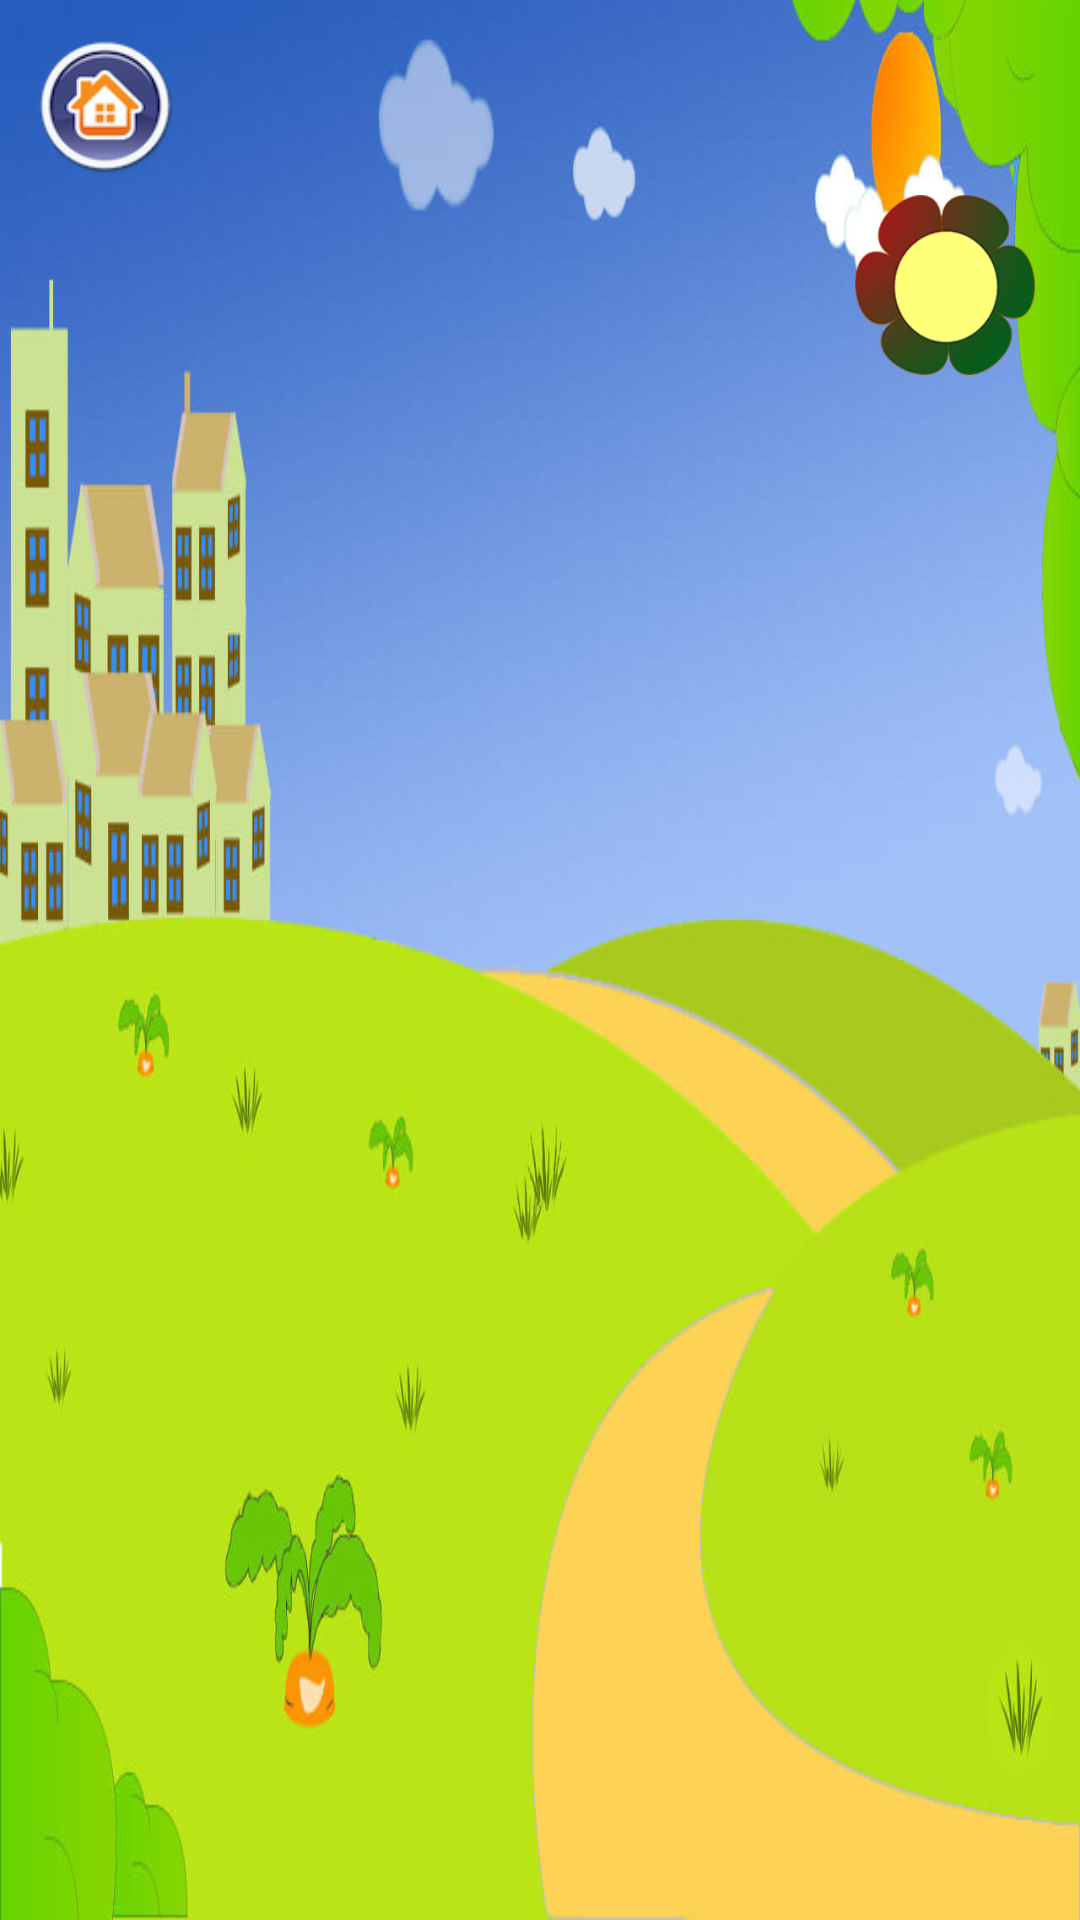

Where to tap for icons on this 1080x1920 app screen, as [x,y]:
hoa xanh: [945,285]
